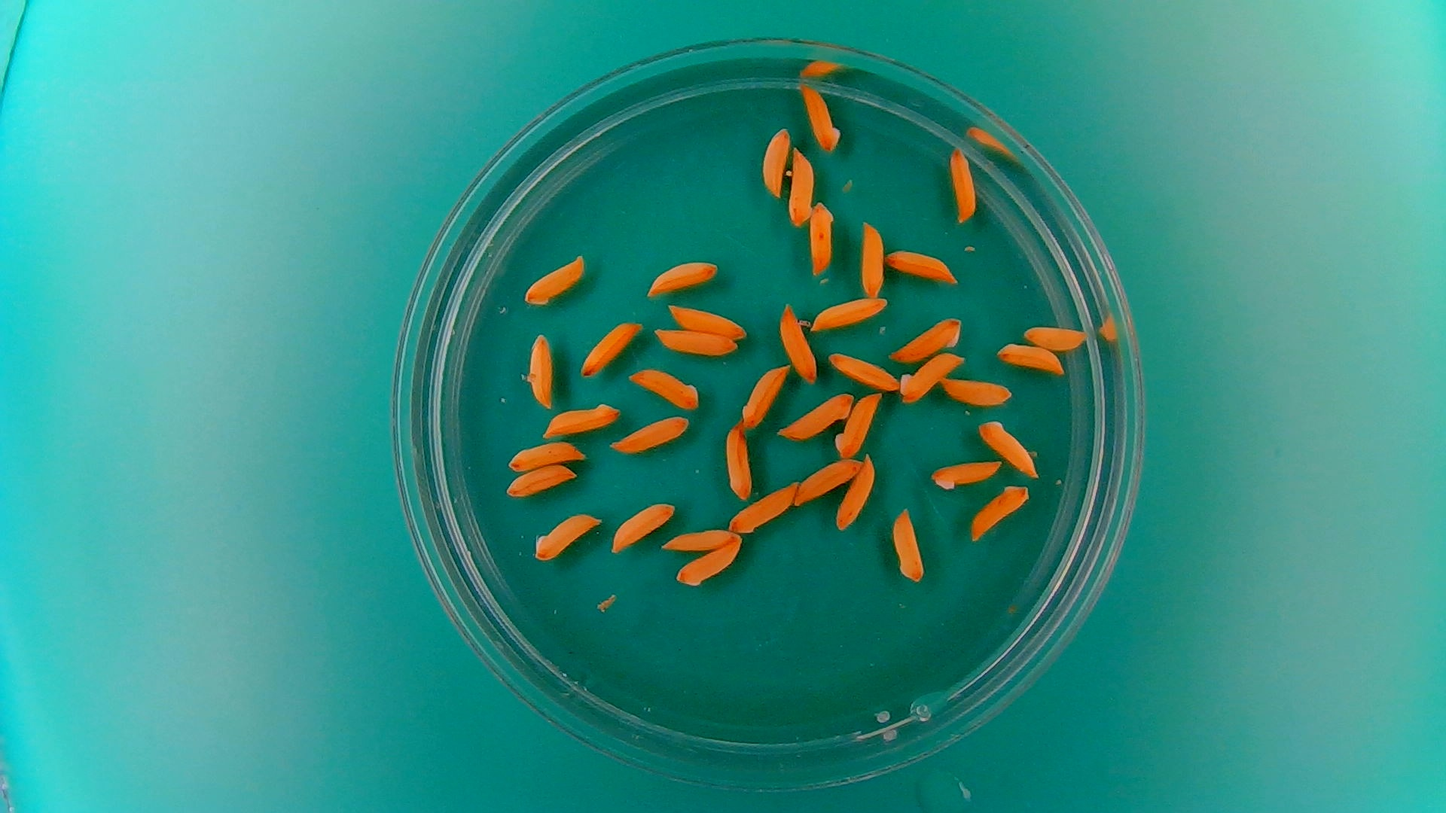no: (776, 388, 853, 440), (674, 534, 744, 590), (728, 479, 799, 534), (578, 318, 643, 378), (976, 418, 1039, 478), (968, 483, 1032, 542), (898, 350, 966, 405), (532, 509, 602, 562), (608, 499, 676, 553), (609, 412, 692, 455), (833, 388, 883, 459), (523, 252, 588, 306), (889, 314, 962, 362), (792, 457, 863, 506), (835, 452, 878, 532), (796, 80, 843, 153), (740, 361, 789, 431), (778, 300, 818, 385), (886, 241, 962, 285), (627, 365, 701, 410), (541, 400, 621, 440), (645, 257, 721, 298), (826, 350, 901, 391), (809, 294, 889, 332), (889, 504, 927, 584), (665, 302, 748, 338), (505, 437, 587, 472), (926, 456, 1002, 492), (652, 326, 740, 357), (504, 463, 578, 499), (994, 340, 1066, 376), (947, 143, 979, 224), (523, 330, 555, 410), (758, 123, 792, 198), (939, 374, 1016, 407), (786, 145, 816, 228), (723, 421, 753, 504), (660, 525, 738, 553), (859, 218, 886, 298), (810, 199, 837, 276), (1021, 322, 1089, 352)
